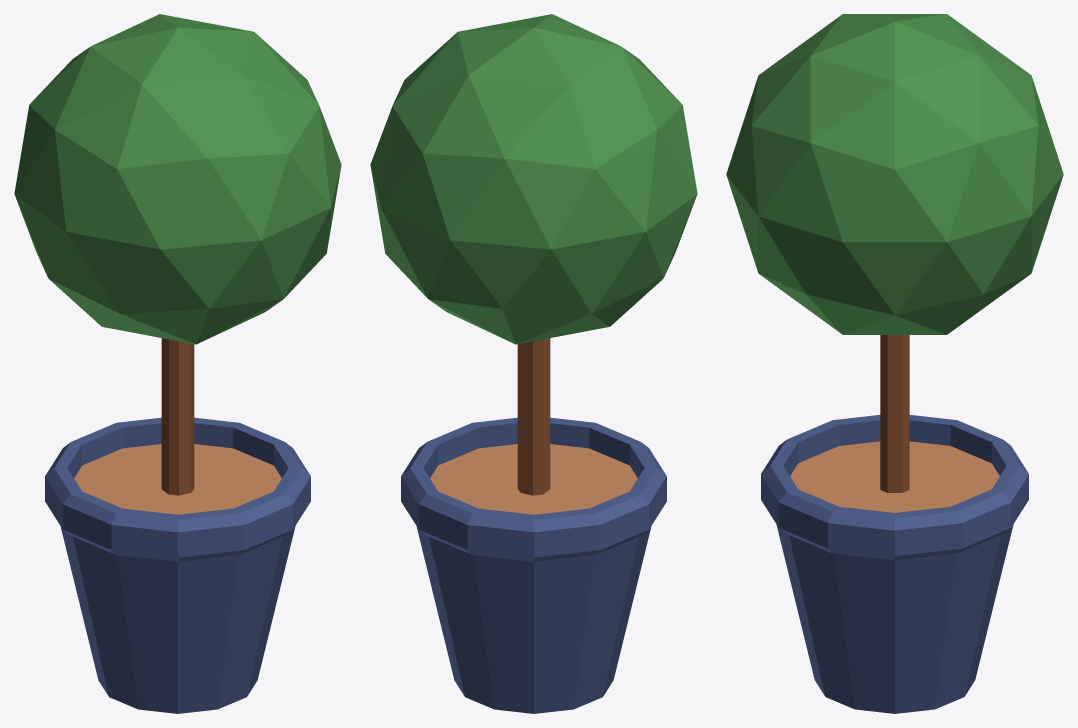
File: plant.gltf
3 views of the same model, side by side, from view 1: azimuth 30°, elevation 25°; view 2: azimuth 150°, elevation 25°; view 3: azimuth 270°, elevation 25° (orthographic).
Parts seen in each view (by area): view 1: Plant A; view 2: Plant A; view 3: Plant A.
Part boxes in pixels (left/top/right/bottom): Plant A: left=14, top=14, right=341, bottom=713; Plant A: left=370, top=14, right=697, bottom=713; Plant A: left=726, top=14, right=1063, bottom=713.
Size of the model in its own units: 2.62 by 5.92 by 2.75.
